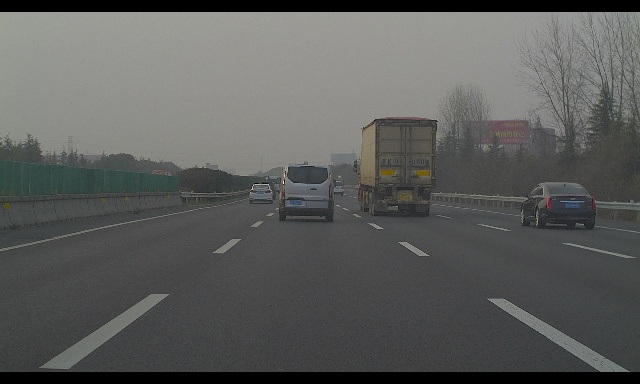car: (520, 182, 596, 229), (277, 165, 337, 222), (249, 184, 275, 203), (257, 180, 277, 199), (265, 176, 282, 194), (329, 181, 344, 197)
truck: (354, 116, 439, 217), (151, 169, 178, 187)
